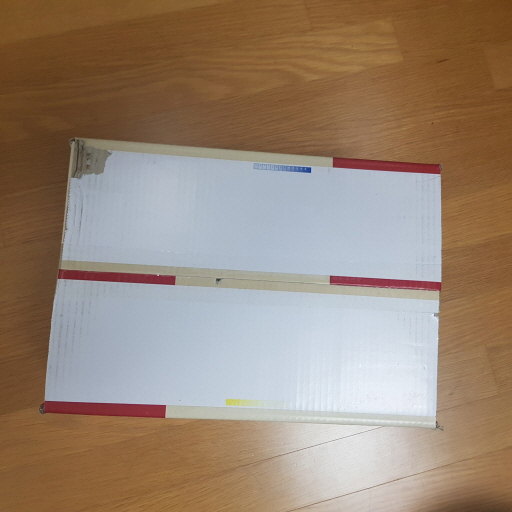Paper_0: (36, 125, 451, 435)
